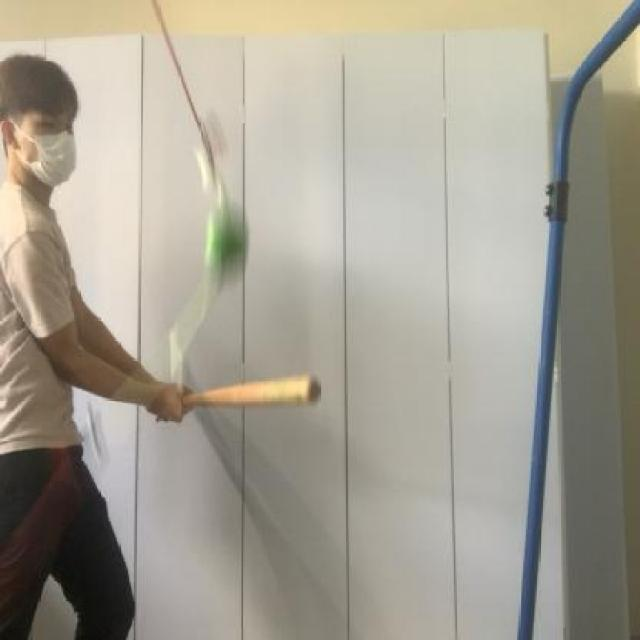baseball: (189, 185, 262, 289)
